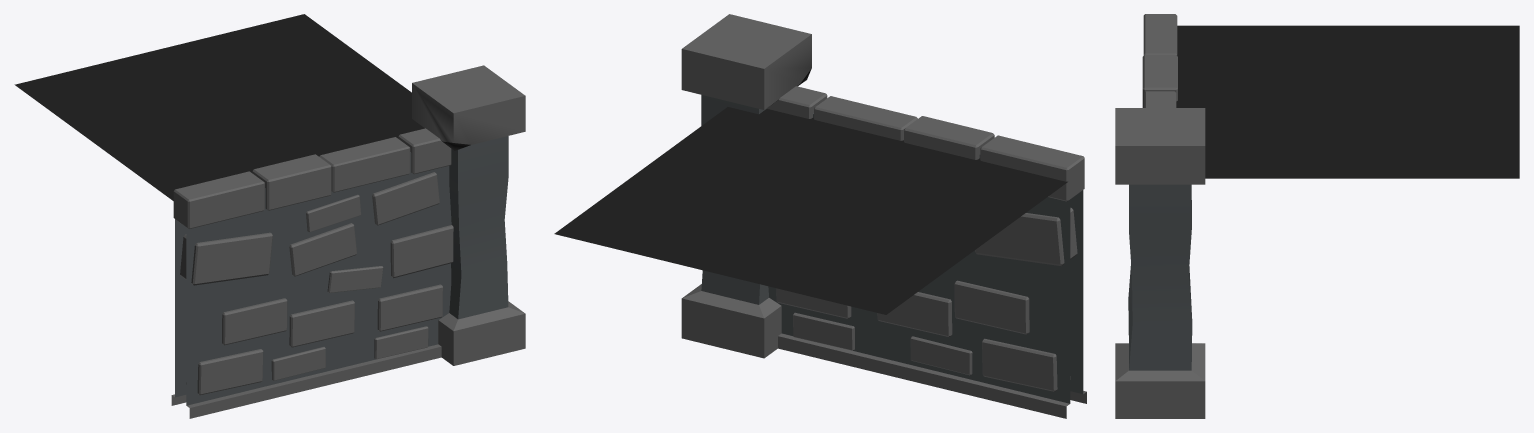
File: WallStraight.fbx
3 views of the same model, side by side, from view 1: azimuth 30°, elevation 25°; view 2: azimuth 150°, elevation 25°; view 3: azimuth 270°, elevation 25° (orthographic). The views are drawn at different scales.
Parts seen in each view (by area): view 1: WallStraight; view 2: WallStraight; view 3: WallStraight.
Boxes of the visible parts, x1,y1,x2,y2 form: WallStraight: [14, 14, 525, 418]; WallStraight: [554, 14, 1086, 418]; WallStraight: [1115, 14, 1519, 418].
Size of the model in its own units: 4.5 by 3.35 by 4.5.
Materials: 1 (1 with a texture image).
